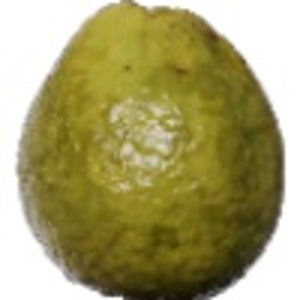goiaba: (10, 2, 288, 295)
